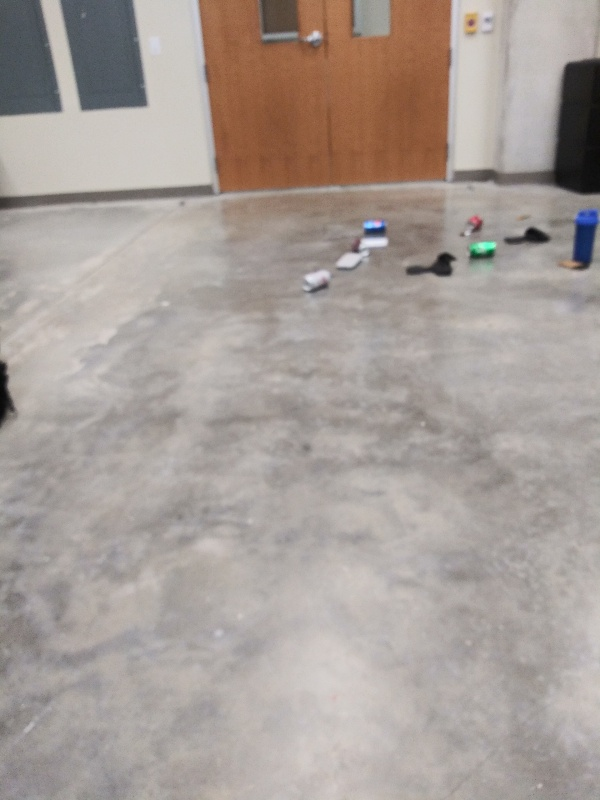can: (300, 268, 333, 293), (466, 240, 498, 263), (361, 219, 389, 236), (352, 238, 373, 259), (465, 214, 483, 233)
